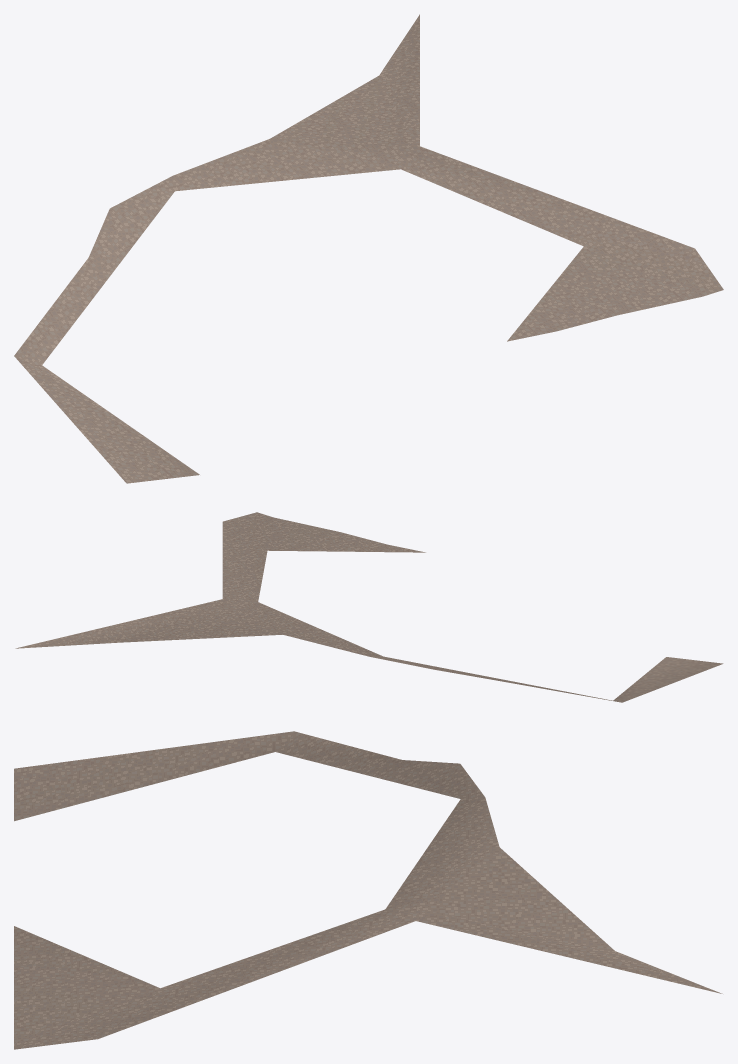
The model's file is kd_stage_135fe0_0_15_bounded.glb.
3 views of the same model, one above another, from view 1: azimuth 30°, elevation 25°; view 2: azimuth 150°, elevation 25°; view 3: azimuth 270°, elevation 25° (orthographic). The views are drawn at different scales.
Visible parts, largest first — view 1: kd_stage_135fe0_0_15_bounded; view 2: kd_stage_135fe0_0_15_bounded; view 3: kd_stage_135fe0_0_15_bounded.
Boxes of the visible parts, x1,y1,x2,y2 form: kd_stage_135fe0_0_15_bounded: (14,14,723,483); kd_stage_135fe0_0_15_bounded: (15,512,723,702); kd_stage_135fe0_0_15_bounded: (14,731,722,1049).
Bounding box in the file's own units: 23.89 × 4.31 × 21.04.
Materials: 1 (1 with a texture image).
